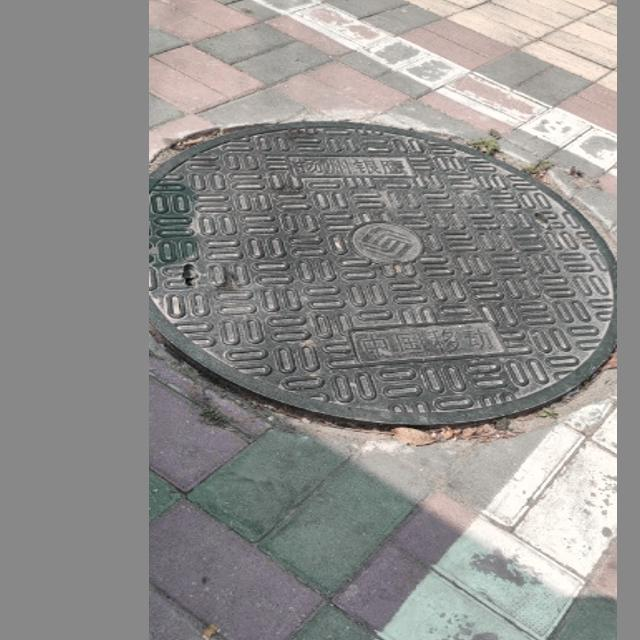good: (152, 119, 617, 423)
